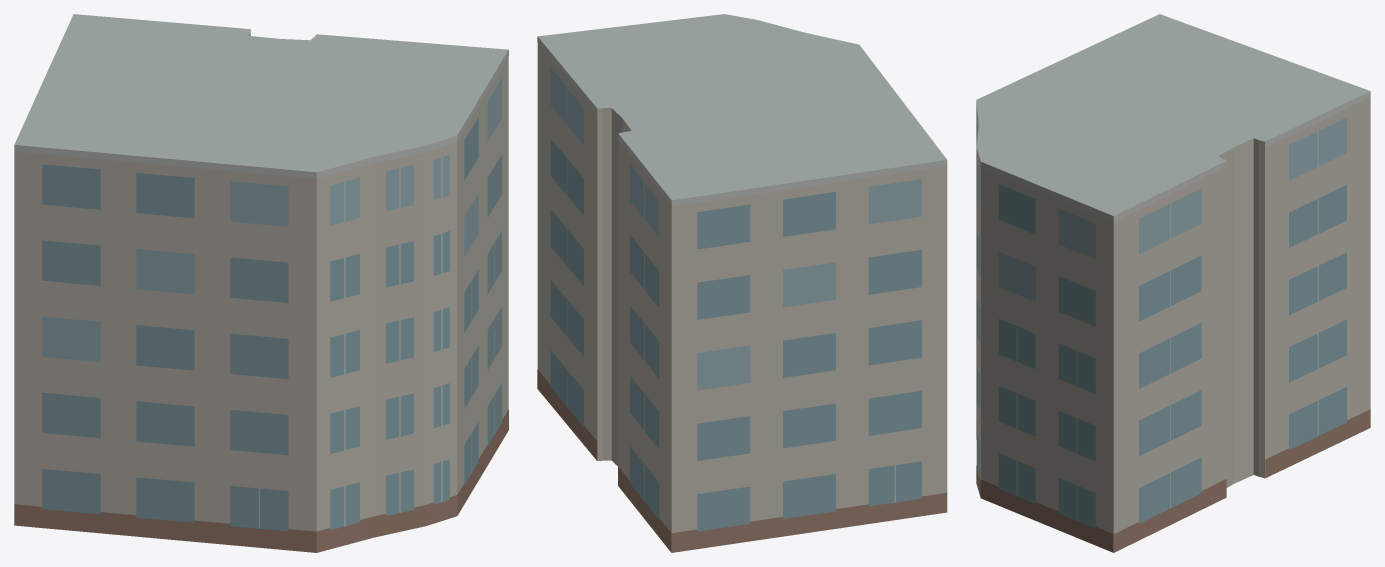
Rendered from survey-upis-32958280.glb.
3 views of the same model, side by side, from view 1: azimuth 30°, elevation 25°; view 2: azimuth 150°, elevation 25°; view 3: azimuth 270°, elevation 25° (orthographic). The views are drawn at different scales.
Visible parts, largest first — view 1: survey-upis-32958280.tmp; view 2: survey-upis-32958280.tmp; view 3: survey-upis-32958280.tmp.
Boxes of the visible parts, bbox=[...] form: survey-upis-32958280.tmp: bbox=[14, 14, 508, 552]; survey-upis-32958280.tmp: bbox=[537, 14, 947, 552]; survey-upis-32958280.tmp: bbox=[976, 14, 1370, 552].
Bounding box in the file's own units: 17.97 × 13.95 × 14.82.
